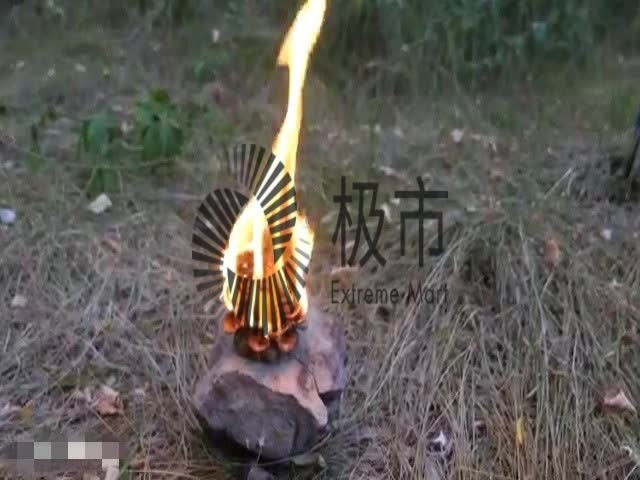fire: (217, 2, 331, 329)
